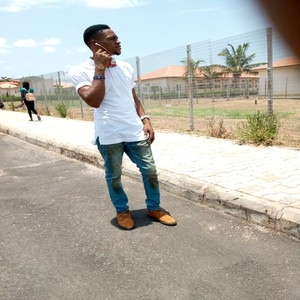Fulokoja_male_student: (81, 24, 177, 229)
